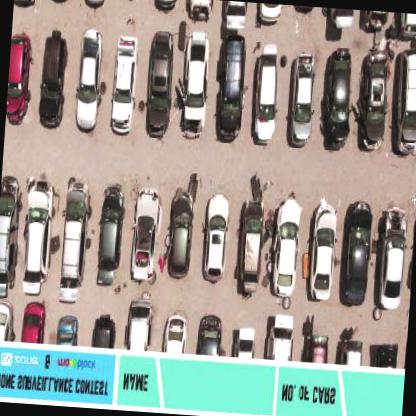car: (60, 181, 92, 304), (235, 178, 267, 298), (22, 180, 54, 296), (340, 200, 374, 308), (144, 30, 176, 140), (215, 37, 247, 142), (180, 34, 212, 138), (167, 178, 199, 280), (360, 50, 392, 152), (74, 33, 105, 134), (323, 48, 354, 148), (95, 186, 125, 289), (38, 34, 70, 129), (310, 201, 340, 302), (288, 51, 318, 149), (130, 187, 160, 282), (380, 209, 408, 310), (273, 196, 301, 297), (254, 50, 283, 146), (6, 33, 35, 125), (0, 176, 21, 298), (111, 48, 139, 136), (203, 193, 230, 283), (397, 45, 415, 155), (126, 296, 153, 350), (266, 314, 294, 362), (198, 313, 223, 355), (21, 302, 45, 342), (166, 312, 188, 352), (92, 316, 116, 348), (232, 327, 256, 358), (57, 314, 80, 344), (0, 301, 15, 340), (401, 14, 415, 39)
